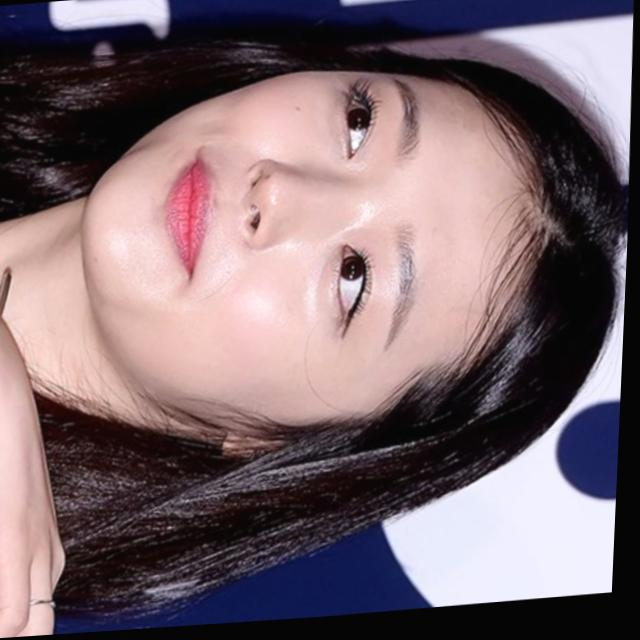face: (45, 37, 615, 511)
